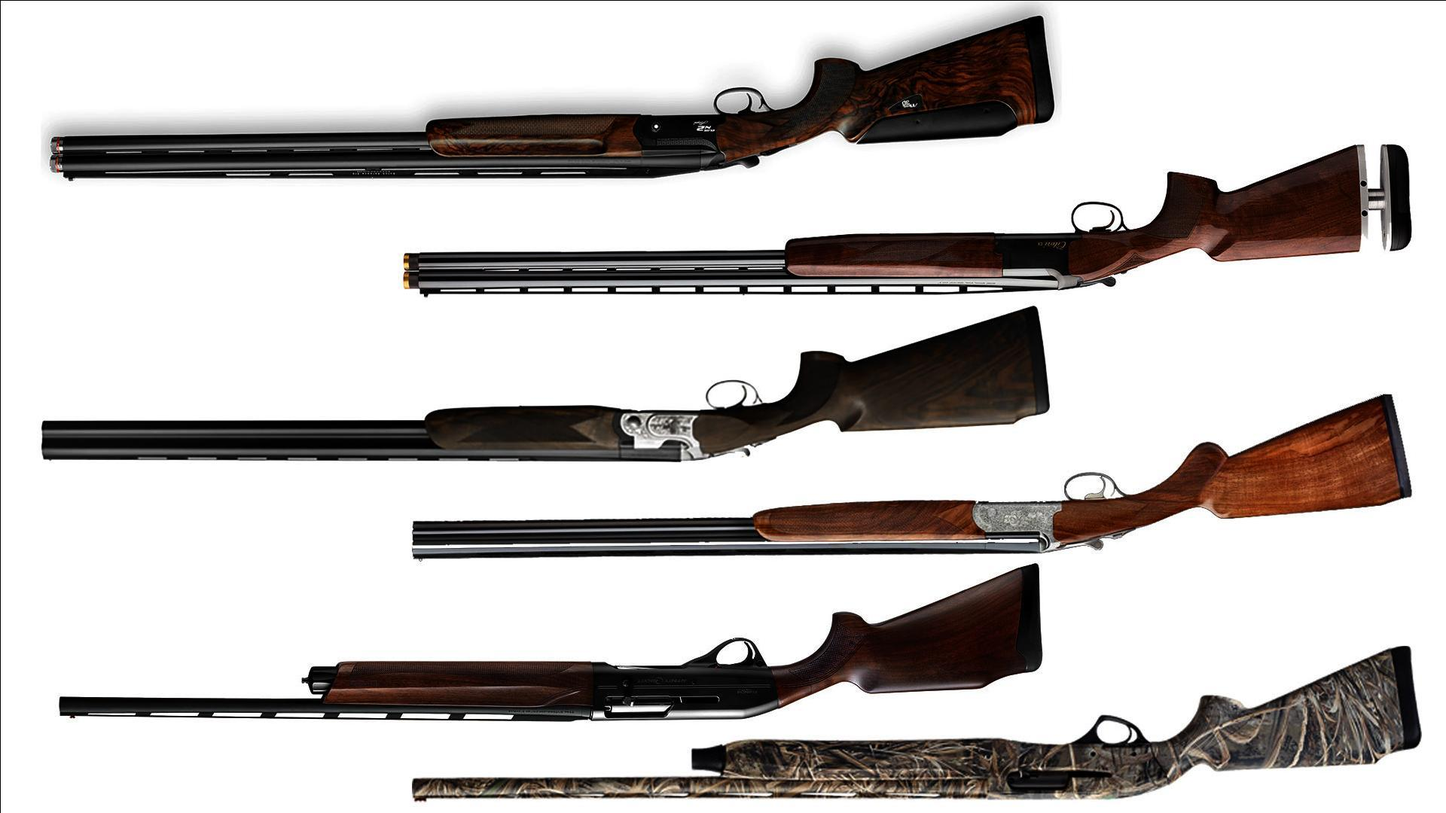gun: (27, 557, 1050, 729), (47, 10, 1052, 183), (397, 139, 1415, 303), (39, 303, 1050, 468), (407, 696, 1419, 810), (404, 472, 1424, 564)
